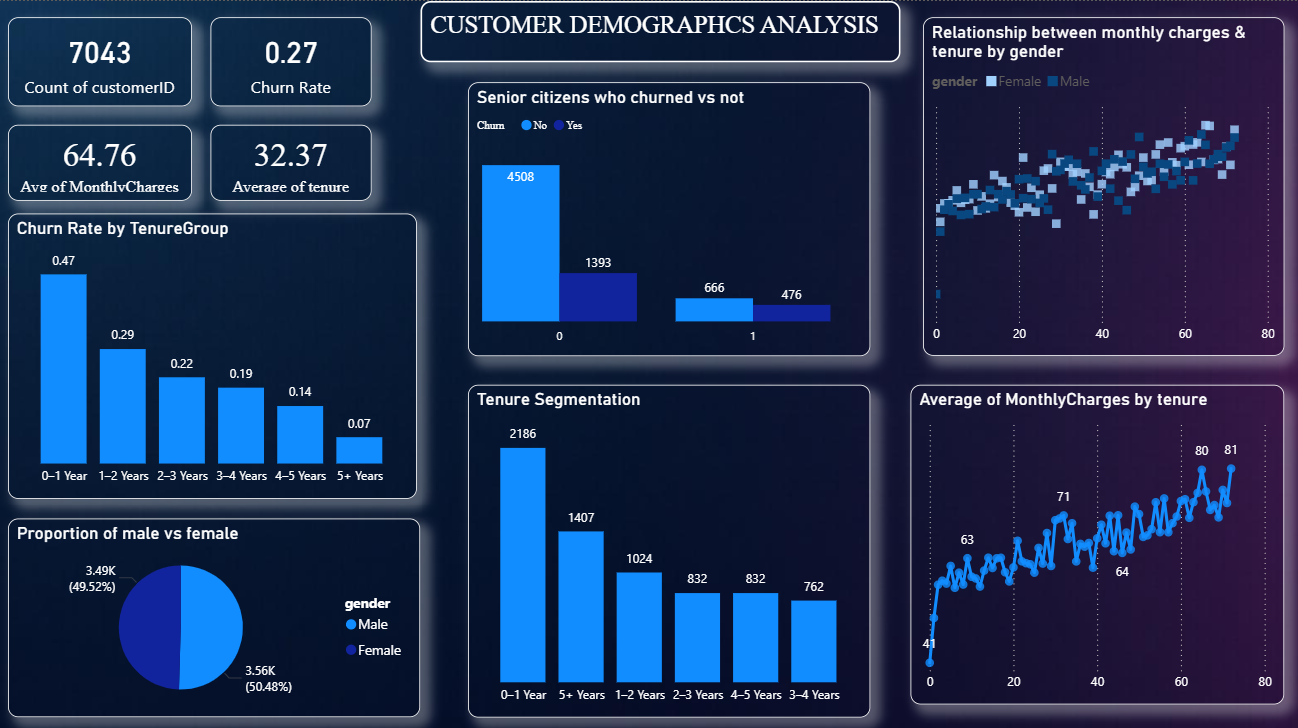

This screenshot's page, from the dashboard's own definition file:
{"tool":"powerbi","page":{"name":"CUSTOMER DEMOGRAPHCS ANALYSIS","canvas":[1280,720],"ordinal":0},"visuals":[{"type":"textbox","box":[413.3,0,469.6,59.9],"z":0},{"type":"pieChart","title":"Proportion of male vs female","fields":{"Y":["CountNonNull(Customer Churn Analysis.gender)"],"Category":["Customer Churn Analysis.gender"]},"box":[9.8,506.3,403.5,194.4],"z":1000},{"type":"clusteredColumnChartByAkvelonBE487DE8B8674A59A098B9B16C950BA","title":"Senior citizens who churned vs not","fields":{"Axis":["Customer Churn Analysis.SeniorCitizen"],"Legend":["Customer Churn Analysis.Churn"],"Value":["CountNonNull(Customer Churn Analysis.customerID)"]},"box":[459.8,79.5,393.8,267.8],"z":2000},{"type":"columnChart","title":"Tenure Segmentation","fields":{"Category":["Customer Churn Analysis.TenureGroup"],"Y":["CountNonNull(Customer Churn Analysis.customerID)"]},"box":[459.8,375.4,393.8,325.3],"z":3000},{"type":"clusteredColumnChart","fields":{"Y":["Customer Churn Analysis.Churn Rate"],"Category":["Customer Churn Analysis.TenureGroup"]},"box":[9.8,207.9,399.9,278.8],"z":4000},{"type":"lineChart","fields":{"Category":["Customer Churn Analysis.tenure"],"Y":["Avg(Customer Churn Analysis.MonthlyCharges)"]},"box":[892.7,375.4,365.6,313],"z":5000},{"type":"scatterChart","title":"Relationship between monthly charges & tenure by gender","fields":{"X":["Customer Churn Analysis.tenure"],"Y":["Avg(Customer Churn Analysis.MonthlyCharges)"],"Series":["Customer Churn Analysis.gender"]},"box":[904.9,15.9,353.4,331.4],"z":6000},{"type":"card","fields":{"Values":["CountNonNull(Customer Churn Analysis.customerID)"]},"box":[9.8,15.9,179.8,86.8],"z":7000},{"type":"card","fields":{"Values":["Customer Churn Analysis.Churn Rate"]},"box":[207.9,15.9,157.7,86.8],"z":8000},{"type":"card","fields":{"Values":["Avg(Customer Churn Analysis.MonthlyCharges)"]},"box":[9.8,121.1,179.8,74.6],"z":9000},{"type":"card","fields":{"Values":["Avg(Customer Churn Analysis.tenure)"]},"box":[207.9,121.1,157.7,74.6],"z":10000}]}

Visuals, with their boxes in screenshot pixels (x1, y1, x2, y2), scaled from the page's 1280x720 canvas onto the 1298x728 screenshot:
textbox: {"left": 419, "top": 0, "right": 895, "bottom": 61}
"Proportion of male vs female" pieChart: {"left": 10, "top": 512, "right": 419, "bottom": 708}
"Senior citizens who churned vs not" clusteredColumnChartByAkvelonBE487DE8B8674A59A098B9B16C950BA: {"left": 466, "top": 80, "right": 866, "bottom": 351}
"Tenure Segmentation" columnChart: {"left": 466, "top": 380, "right": 866, "bottom": 708}
clusteredColumnChart - Customer Churn Analysis.Churn Rate x Customer Churn Analysis.TenureGroup: {"left": 10, "top": 210, "right": 415, "bottom": 492}
lineChart - Customer Churn Analysis.tenure x Avg(Customer Churn Analysis.MonthlyCharges): {"left": 905, "top": 380, "right": 1276, "bottom": 696}
"Relationship between monthly charges & tenure by gender" scatterChart: {"left": 918, "top": 16, "right": 1276, "bottom": 351}
card - CountNonNull(Customer Churn Analysis.customerID): {"left": 10, "top": 16, "right": 192, "bottom": 104}
card - Customer Churn Analysis.Churn Rate: {"left": 211, "top": 16, "right": 371, "bottom": 104}
card - Avg(Customer Churn Analysis.MonthlyCharges): {"left": 10, "top": 122, "right": 192, "bottom": 198}
card - Avg(Customer Churn Analysis.tenure): {"left": 211, "top": 122, "right": 371, "bottom": 198}
